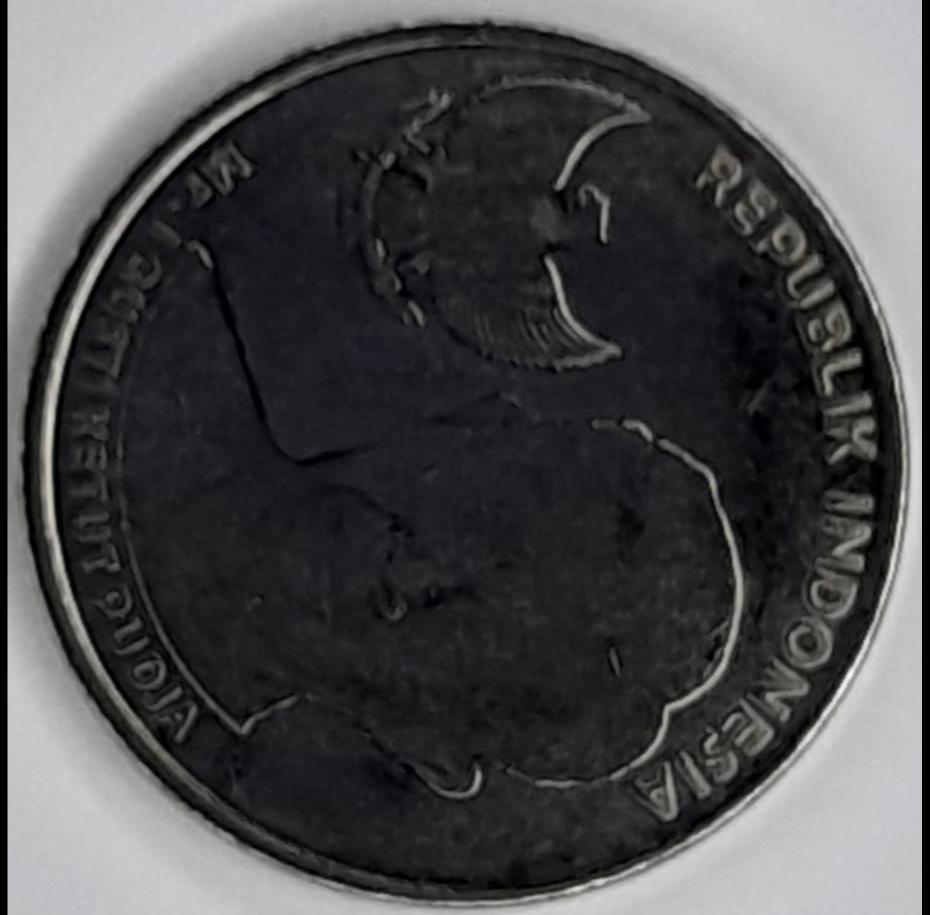coin_1000_e2016: (16, 18, 918, 915)
